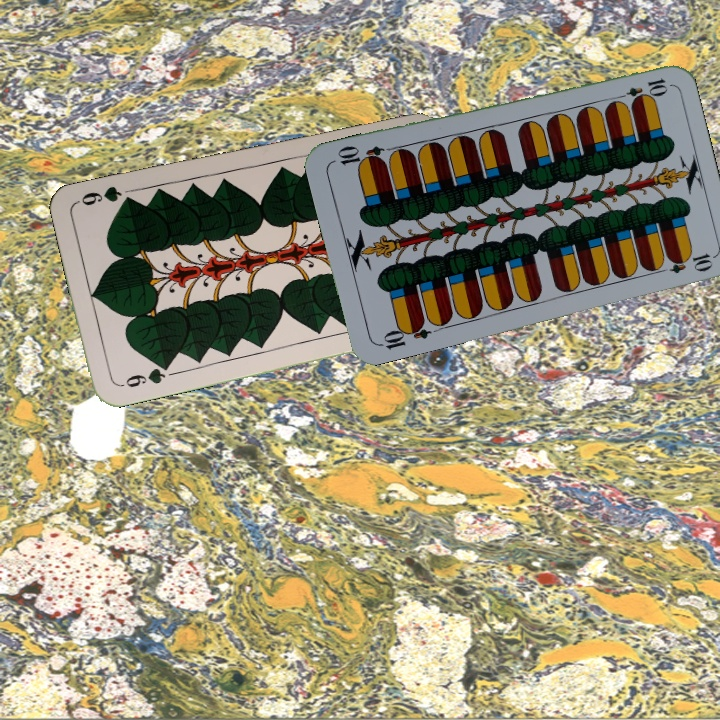E10: (374, 316, 433, 352), (611, 74, 670, 104)
G9: (115, 361, 172, 390)
